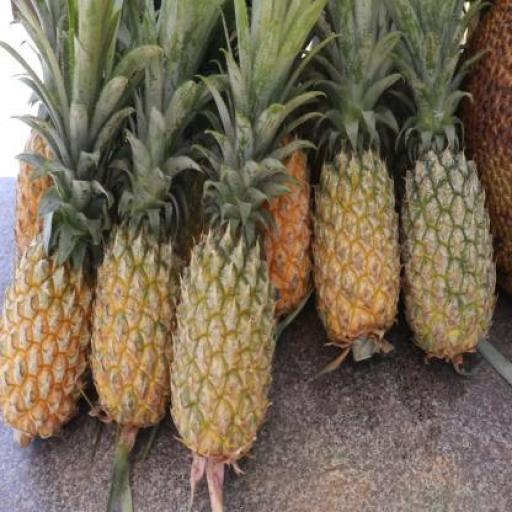------------------------------: (174, 233, 275, 450)
Pineapple - v8 v1: (2, 240, 103, 446), (93, 231, 185, 429), (315, 160, 403, 356), (13, 122, 78, 276)
